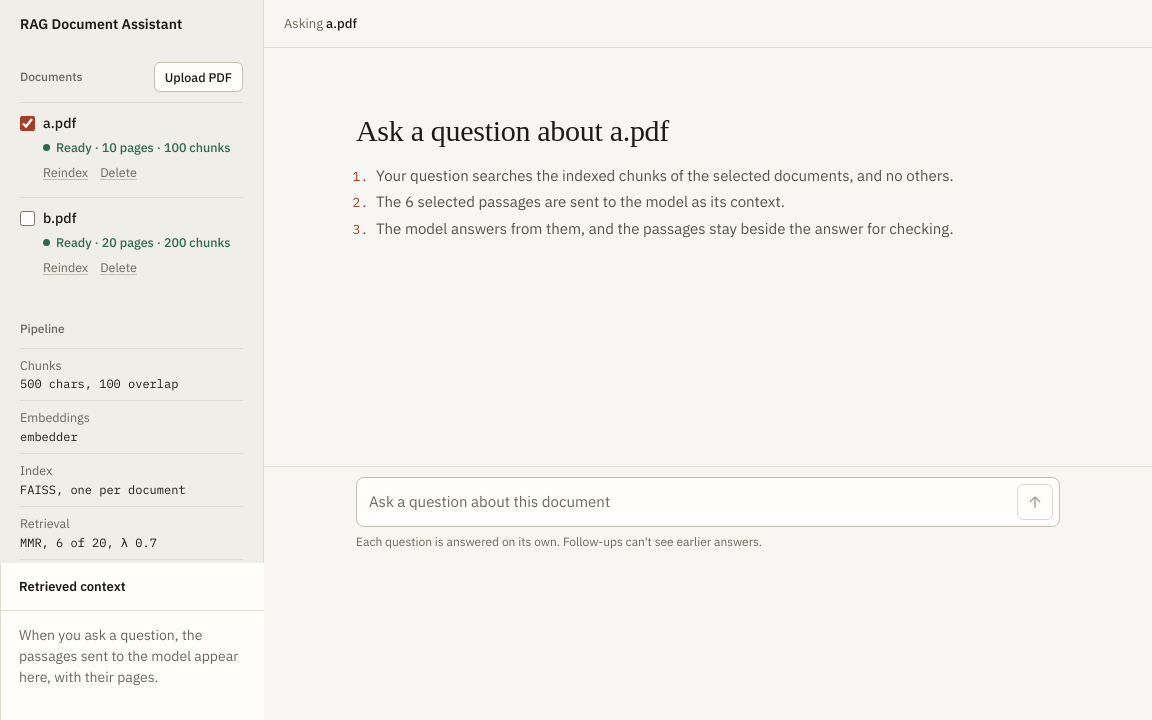
source rendering › shows each source's own document, page, distance and text from the API
Click the checkbox labelled "b.pdf". click: click(28, 218)
box: [20,211,35,226]
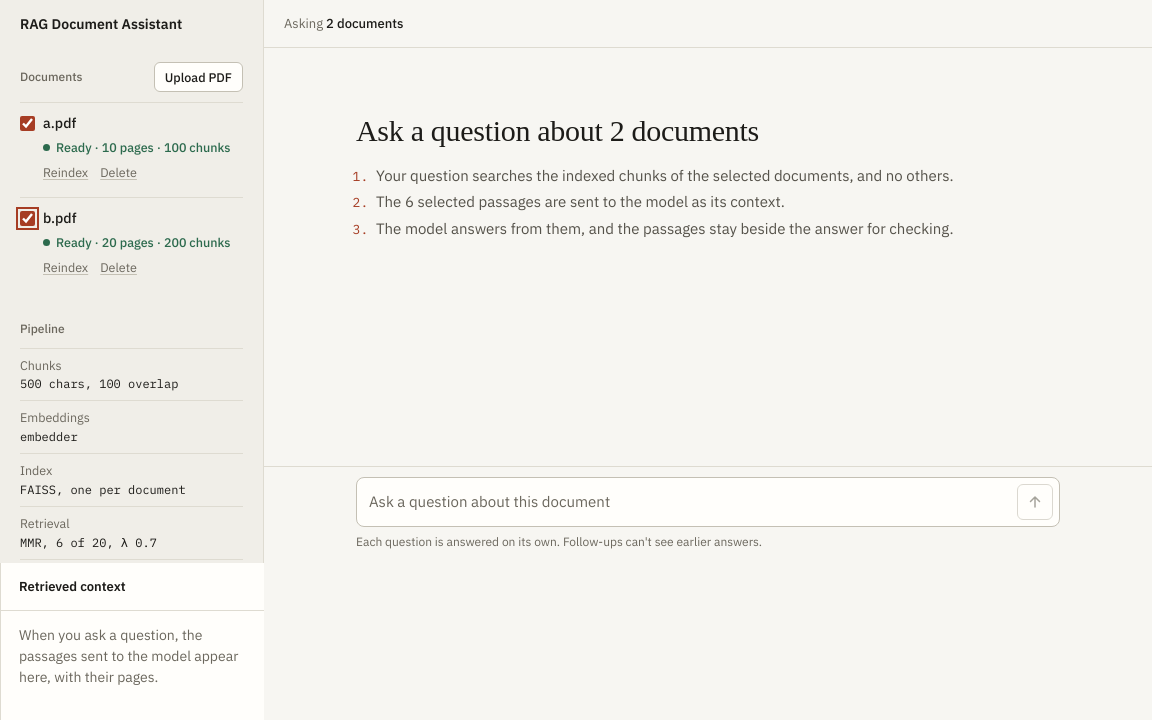
Type "What?" into the text box named "Question about the document". click: (689, 502)
box: [369,484,1009,520]
Then press Enter
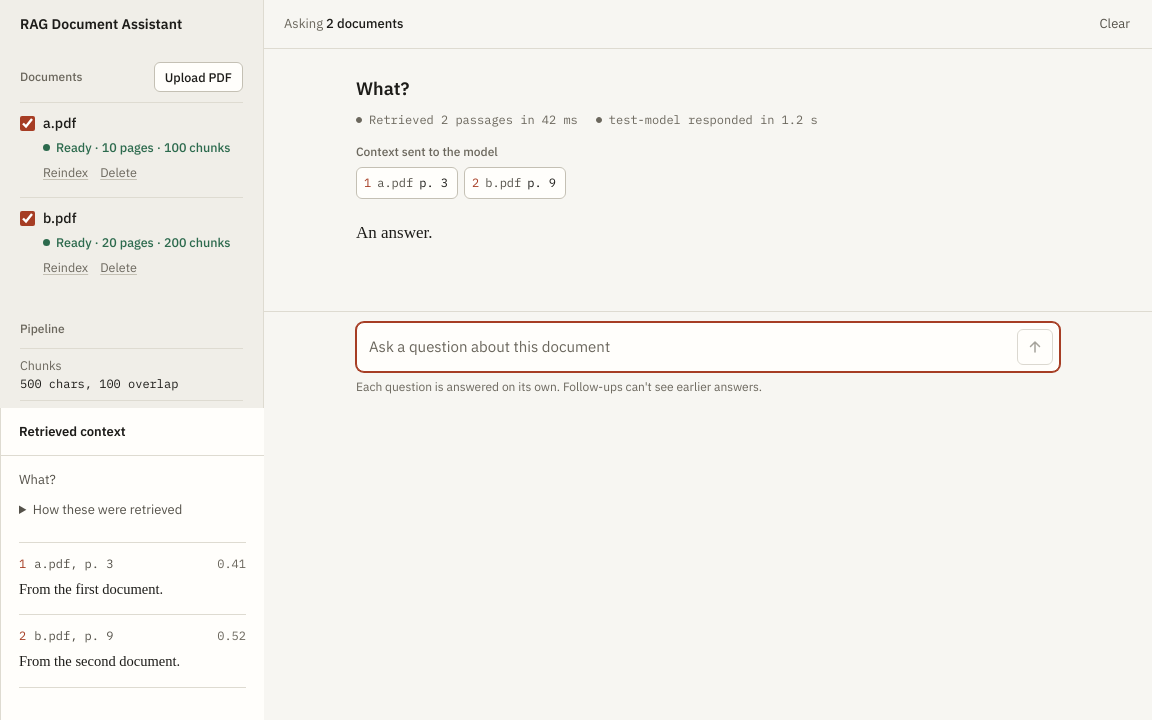
Now the text "An answer." is shown, box [356,223,432,242]
Now the text "a.pdf, p. 3" is shown, box [34,556,113,570]
Now the text "b.pdf, p. 9" is shown, box [34,628,113,643]
